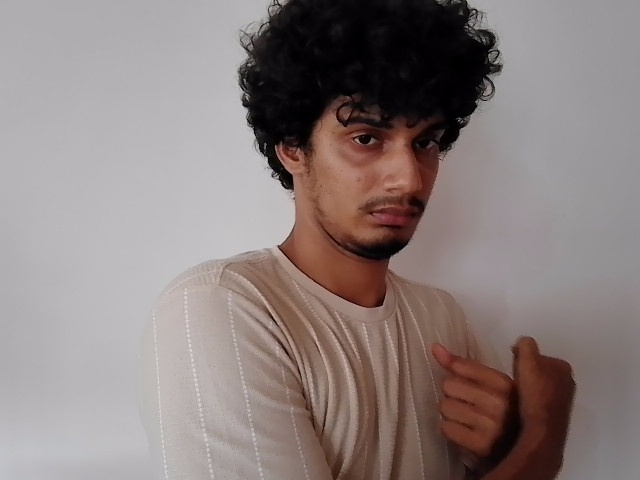love: (431, 335, 585, 480)
